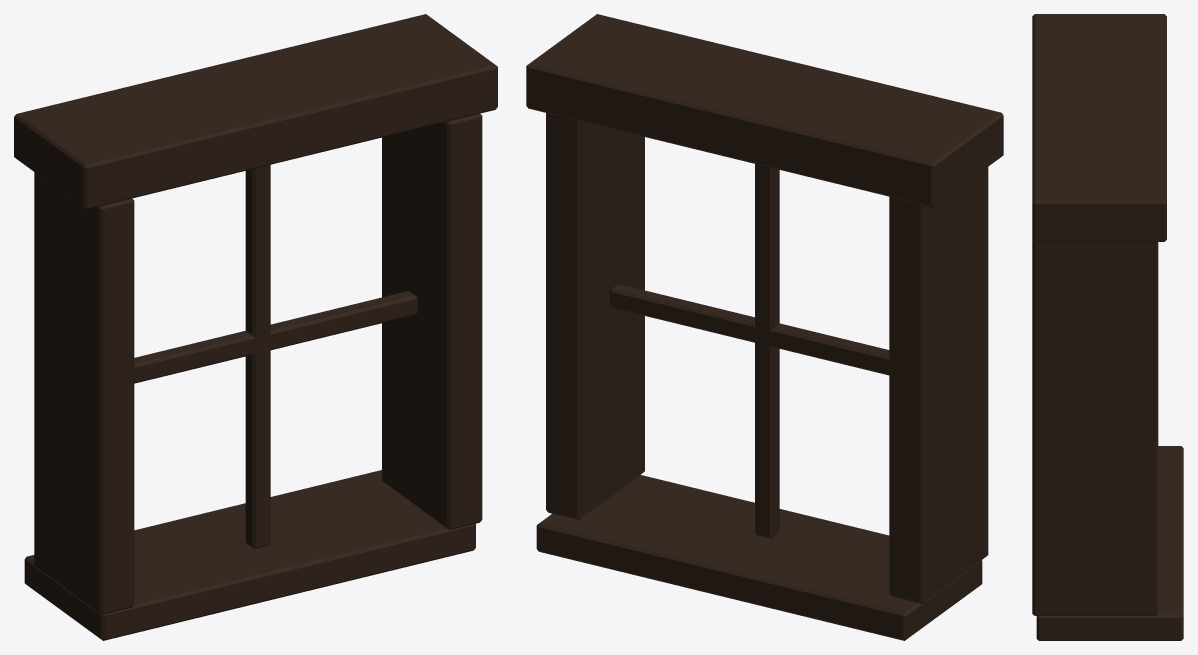
Rendered from frame_window.fbx.
3 views of the same model, side by side, from view 1: azimuth 30°, elevation 25°; view 2: azimuth 150°, elevation 25°; view 3: azimuth 270°, elevation 25° (orthographic). The views are drawn at different scales.
Parts seen in each view (by area): view 1: frame_window; view 2: frame_window; view 3: frame_window.
Boxes of the visible parts, x1,y1,x2,y2 form: frame_window: (14,14,497,640); frame_window: (526,14,1003,640); frame_window: (1032,14,1183,640).
Bounding box in the file's own units: 530 × 590 × 180.
